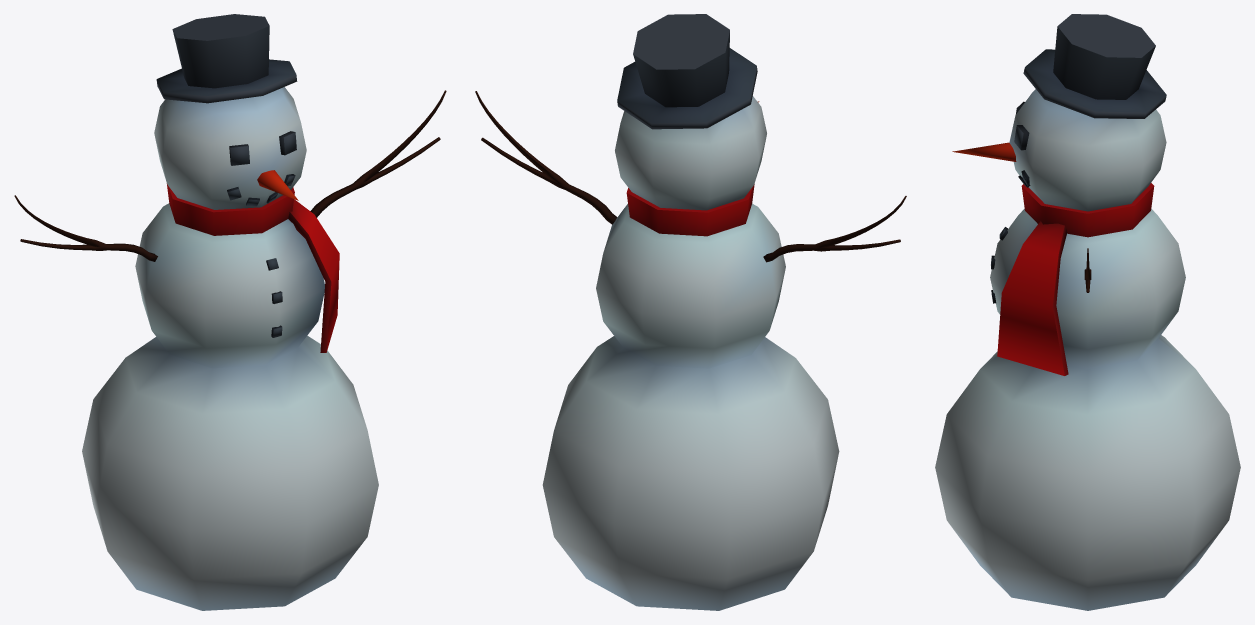
Rendered from Snowman_Full.fbx.
The picture shows the model from 3 angles, left to right: view 1: azimuth 30°, elevation 25°; view 2: azimuth 150°, elevation 25°; view 3: azimuth 270°, elevation 25°; orthographic projection.
Visible parts, largest first — view 1: Snowman_Full; view 2: Snowman_Full; view 3: Snowman_Full.
Boxes of the visible parts, box(x1,y1,x2,y2) form: Snowman_Full: box(14, 14, 446, 610); Snowman_Full: box(475, 14, 906, 610); Snowman_Full: box(935, 14, 1240, 610).
Bounding box in the file's own units: 143 × 175 × 87.9.
